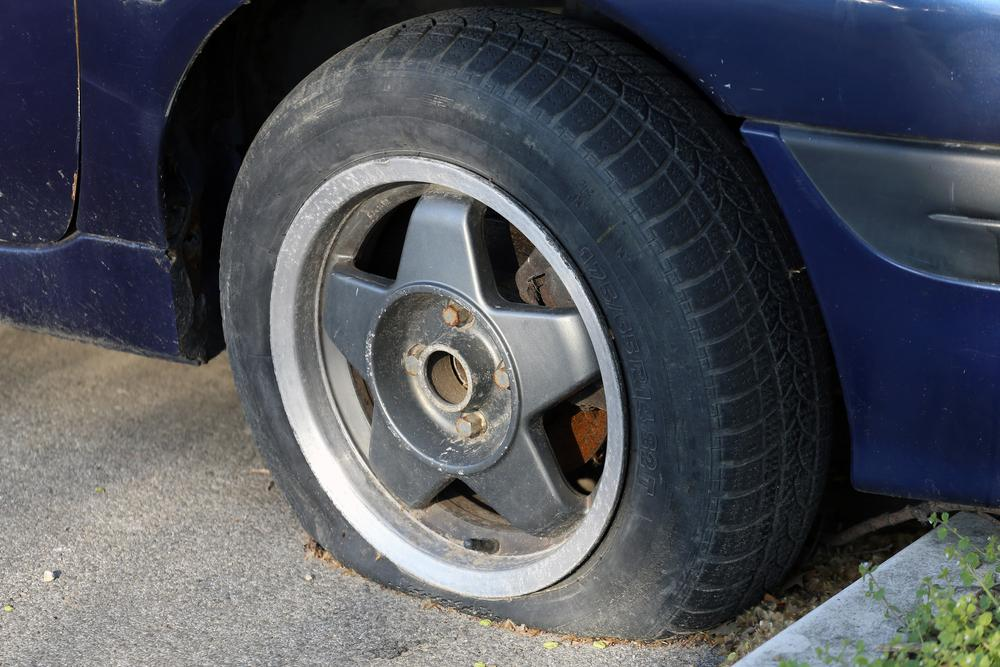tire flat: (218, 5, 833, 643)
